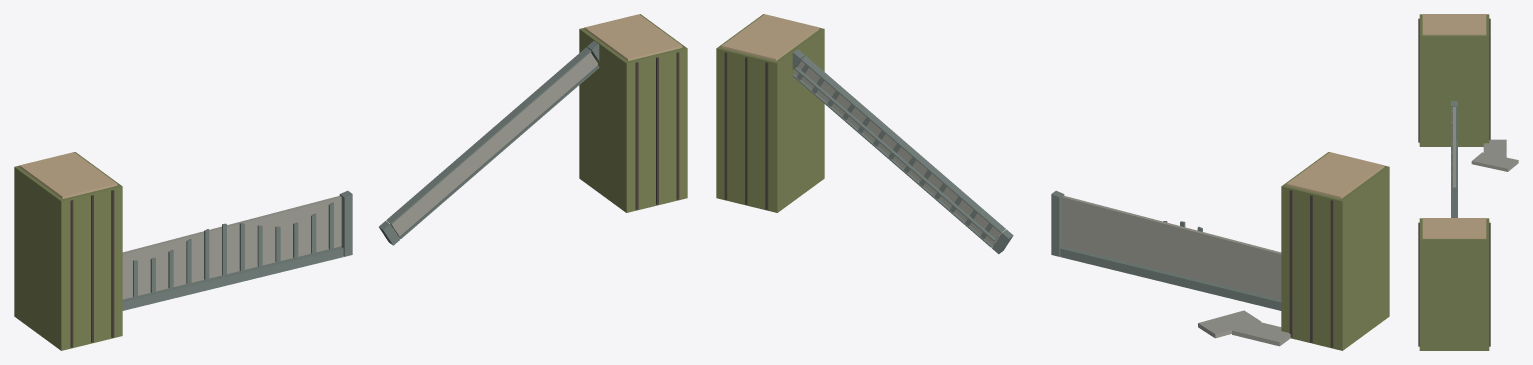
Rendered from SM_PuertaViaDoble_v1_ChapaOndulada_e2_MuyDanado_LOD0.fbx.
3 views of the same model, side by side, from view 1: azimuth 30°, elevation 25°; view 2: azimuth 150°, elevation 25°; view 3: azimuth 270°, elevation 25° (orthographic). The views are drawn at different scales.
Visible parts, largest first — view 1: SM_puerta_via_doble_v6_LOD0, Hoja_O, Hoja_E; view 2: SM_puerta_via_doble_v6_LOD0, Hoja_O, Hoja_E; view 3: SM_puerta_via_doble_v6_LOD0, Hoja_O.
Boxes of the visible parts, <box> form: SM_puerta_via_doble_v6_LOD0: <box>14,14,687,350</box>; Hoja_O: <box>122,190,352,310</box>; Hoja_E: <box>379,40,599,245</box>; SM_puerta_via_doble_v6_LOD0: <box>716,14,1389,350</box>; Hoja_O: <box>1051,190,1281,310</box>; Hoja_E: <box>792,49,1013,254</box>; SM_puerta_via_doble_v6_LOD0: <box>1418,14,1518,350</box>; Hoja_O: <box>1451,101,1457,217</box>.
Size of the model in its own units: 9.2 by 2.16 by 1.72.
